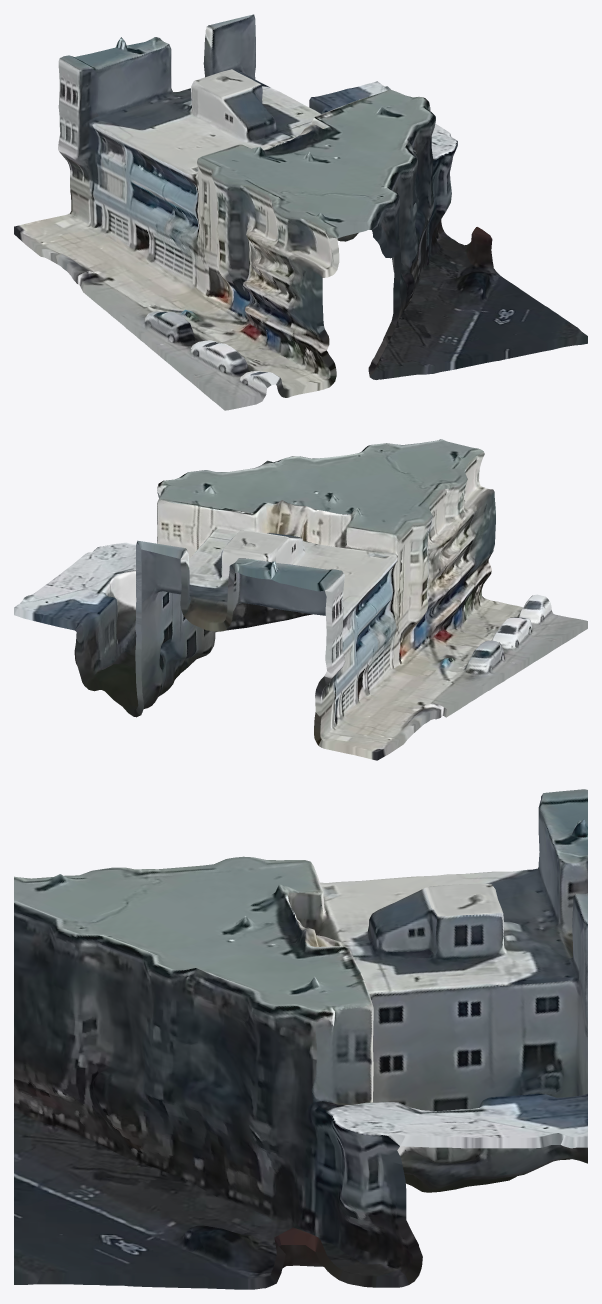
File: z20-167737-405199-h0-yup-uvflip-v3-world.glb
The picture shows the model from 3 angles, top to bottom: view 1: azimuth 30°, elevation 25°; view 2: azimuth 150°, elevation 25°; view 3: azimuth 270°, elevation 25°; orthographic projection. The views are drawn at different scales.
Bounding box in the file's own units: 30.16 × 17.44 × 30.32.
1 material, 1 textured.
